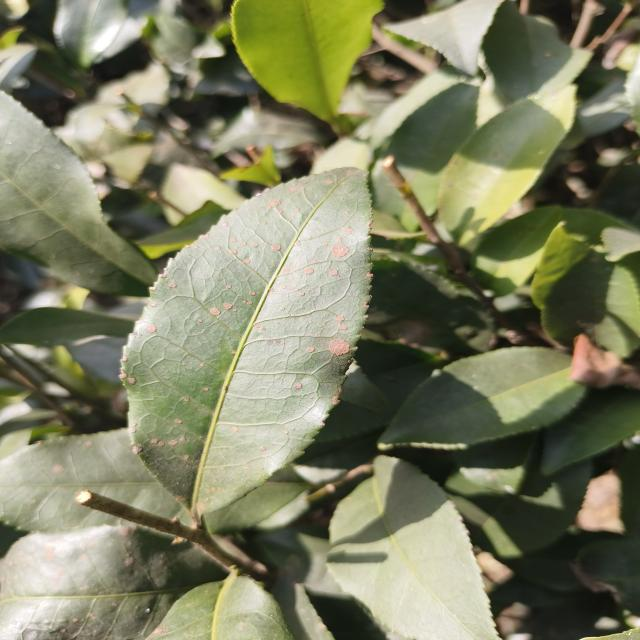Leaf: (122, 168, 372, 516), (0, 93, 156, 295), (327, 456, 498, 640), (0, 525, 224, 640), (439, 85, 576, 246), (380, 347, 586, 449), (0, 429, 189, 532), (231, 0, 382, 126), (447, 461, 592, 558), (381, 83, 479, 214), (483, 0, 590, 100), (542, 251, 640, 357), (147, 572, 294, 640), (388, 0, 503, 75), (542, 387, 640, 475), (472, 206, 563, 296), (204, 481, 306, 535), (0, 307, 134, 347), (54, 0, 126, 67), (454, 434, 534, 493), (373, 166, 411, 215)
